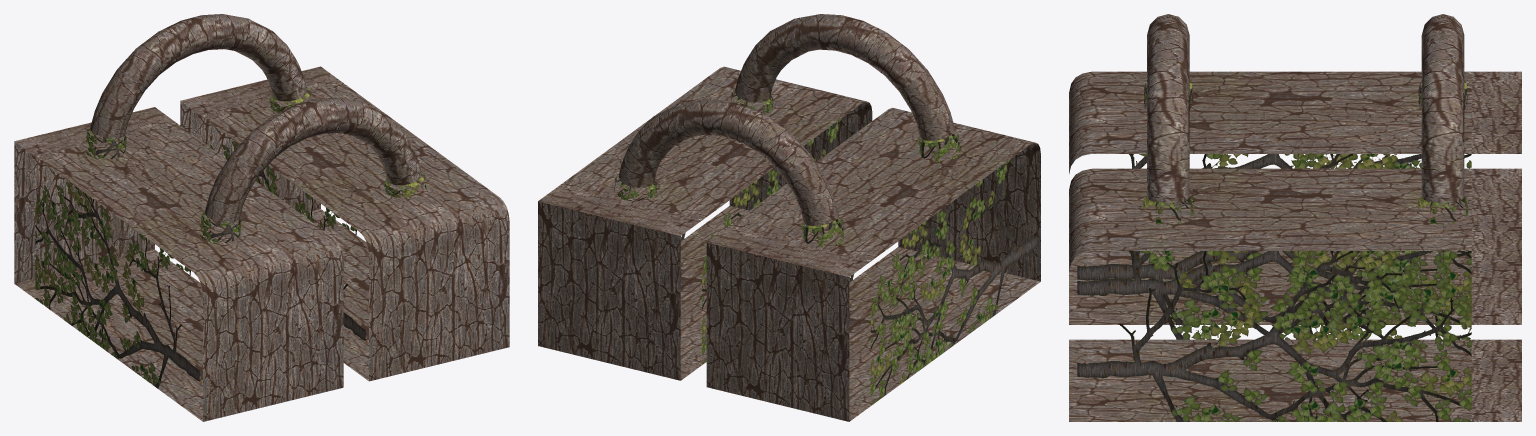
Rendered from crate_vent_tube.FBX.
The picture shows the model from 3 angles, left to right: view 1: azimuth 30°, elevation 25°; view 2: azimuth 150°, elevation 25°; view 3: azimuth 270°, elevation 25°; orthographic projection. The views are drawn at different scales.
Parts seen in each view (by area): view 1: crate_vent_tube; view 2: crate_vent_tube; view 3: crate_vent_tube.
Boxes of the visible parts, <box> form: crate_vent_tube: <box>14,14,509,421</box>; crate_vent_tube: <box>538,14,1040,421</box>; crate_vent_tube: <box>1069,14,1521,421</box>.
Bounding box in the file's own units: 5.63 × 6 × 4.43.
